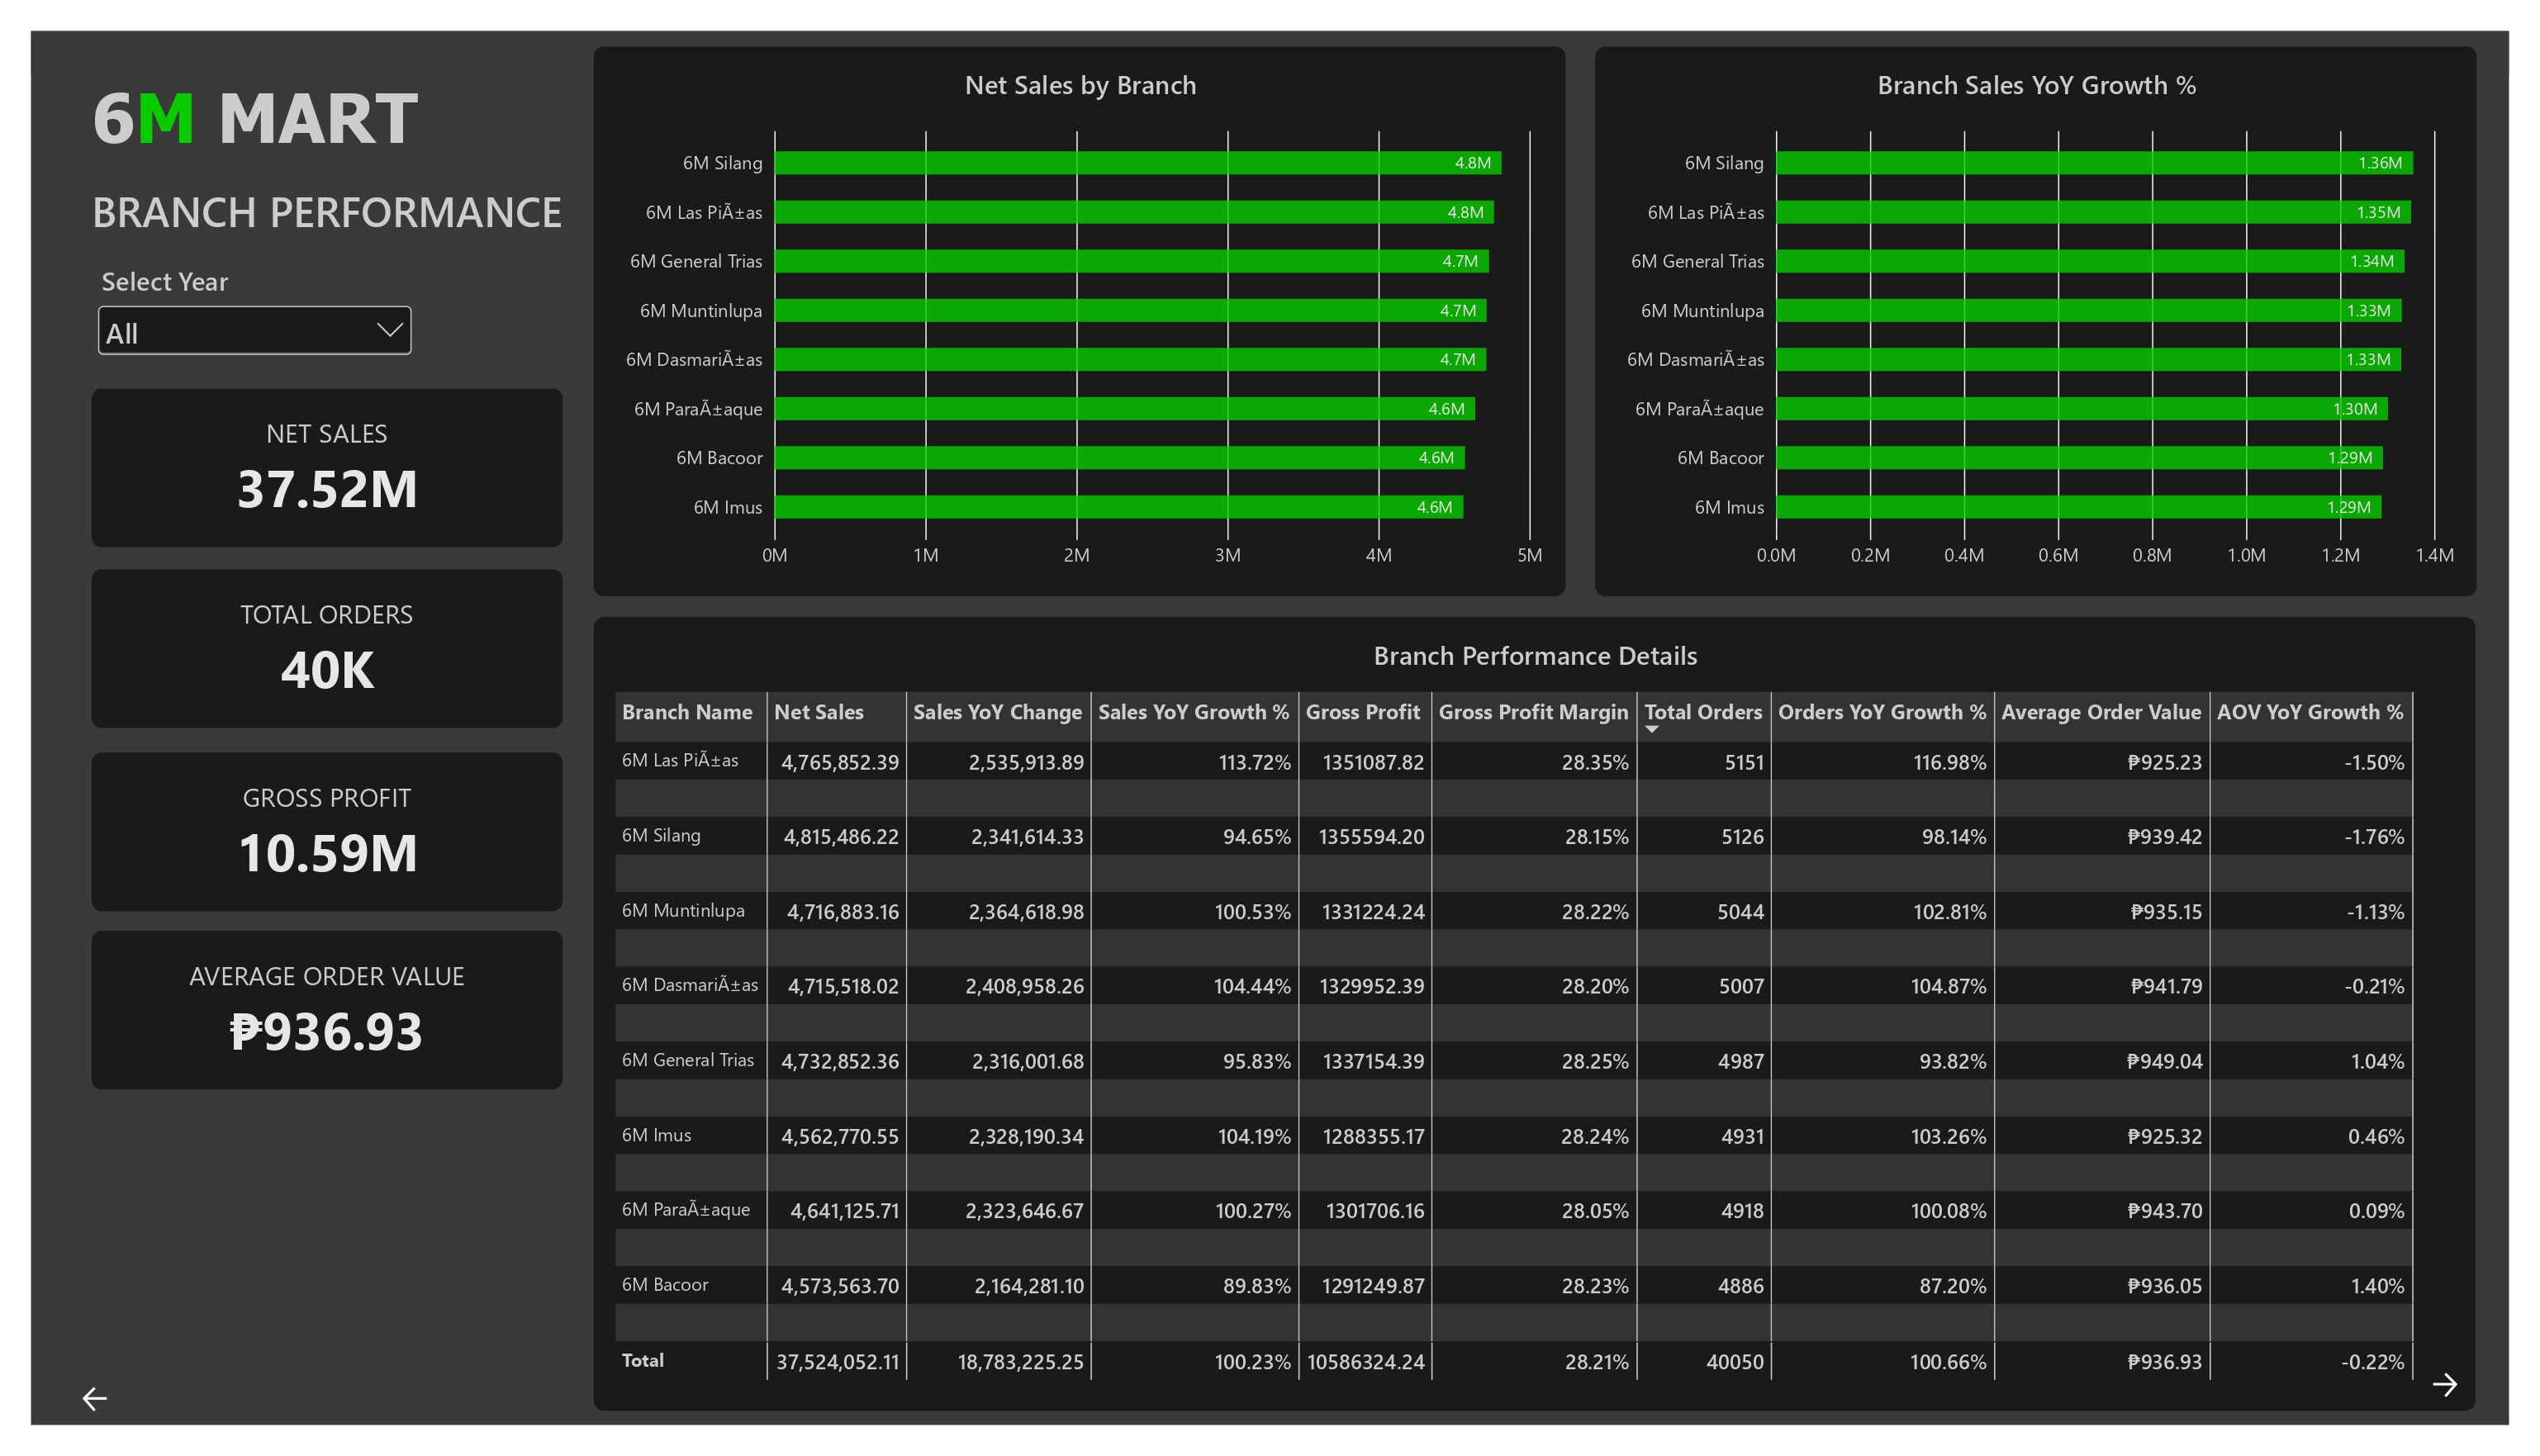

The page's visual inventory and layout, read from the dashboard file:
{"tool":"powerbi","page":{"name":"Branch Performance","canvas":[1920,1080],"ordinal":1},"visuals":[{"type":"cardVisual","fields":{"Data":["_Measures.Net Sales"]},"box":[47.1,277.1,365,123.3],"z":0},{"type":"cardVisual","fields":{"Data":["_Measures.Gross Profit"]},"box":[47.1,558.6,365,123.3],"z":1000},{"type":"cardVisual","fields":{"Data":["_Measures.Total Orders"]},"box":[47.1,417.1,365,123.3],"z":2000},{"type":"cardVisual","fields":{"Data":["_Measures.Average Order Value"]},"box":[47.1,697.1,365,123.3],"z":3000},{"type":"textbox","box":[47.1,34.3,411.4,144.3],"z":4000},{"type":"clusteredBarChart","title":"Net Sales by Branch","fields":{"Category":["public dim_branches.branch_name"],"Y":["_Measures.Net Sales"]},"box":[436,12,752.9,425.7],"z":5000},{"type":"clusteredBarChart","title":"Branch Sales YoY Growth %","fields":{"Category":["public dim_branches.branch_name"],"Y":["_Measures.Sales YoY Growth %"]},"box":[846,484,682.9,425.7],"z":6000},{"type":"pivotTable","title":"Branch Performance Details","fields":{"Rows":["public dim_branches.branch_name"],"Values":["_Measures.Net Sales","_Measures.Sales YoY Change","_Measures.Sales YoY Growth %","_Measures.Gross Profit","_Measures.Gross Profit Margin","_Measures.Total Orders","_Measures.Orders YoY Growth %","_Measures.Average Order Value","_Measures.AOV YoY Growth %"]},"box":[435.7,454.3,1458.6,614.3],"z":7000},{"type":"slicer","fields":{"Values":["public dim_date.year"]},"box":[47.1,178.6,253.3,95],"z":8000},{"type":"clusteredBarChart","title":"Branch Sales YoY Growth %","fields":{"Category":["public dim_branches.branch_name"],"Y":["_Measures.Gross Profit"]},"box":[1212,12,682.9,425.7],"z":9000},{"type":"actionButton","box":[1820,1028.6,100,40],"z":9001},{"type":"actionButton","box":[0,1040,100,40],"z":9003}]}

Visuals, with their boxes on the page's 1920x1080 design canvas (x1, y1, x2, y2). These are canvas units, not pixel positions in the 2540x1456 screenshot, which may show the page scaled, cropped or inside an application window:
cardVisual - _Measures.Net Sales: pyautogui.locateOnScreen(47, 277, 412, 400)
cardVisual - _Measures.Gross Profit: pyautogui.locateOnScreen(47, 559, 412, 682)
cardVisual - _Measures.Total Orders: pyautogui.locateOnScreen(47, 417, 412, 540)
cardVisual - _Measures.Average Order Value: pyautogui.locateOnScreen(47, 697, 412, 820)
textbox: pyautogui.locateOnScreen(47, 34, 458, 179)
"Net Sales by Branch" clusteredBarChart: pyautogui.locateOnScreen(436, 12, 1189, 438)
"Branch Sales YoY Growth %" clusteredBarChart: pyautogui.locateOnScreen(846, 484, 1529, 910)
"Branch Performance Details" pivotTable: pyautogui.locateOnScreen(436, 454, 1894, 1069)
slicer - public dim_date.year: pyautogui.locateOnScreen(47, 179, 300, 274)
"Branch Sales YoY Growth %" clusteredBarChart: pyautogui.locateOnScreen(1212, 12, 1895, 438)
actionButton: pyautogui.locateOnScreen(1820, 1029, 1920, 1069)
actionButton: pyautogui.locateOnScreen(0, 1040, 100, 1080)
